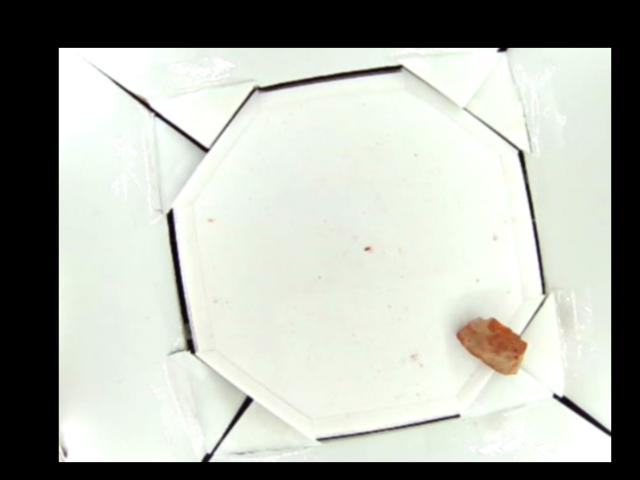Brisk: (455, 316, 527, 376)
